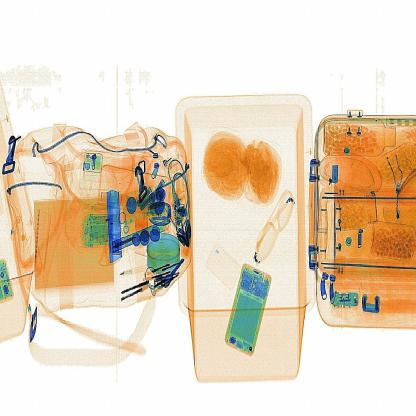pliers: (96, 186, 126, 270)
